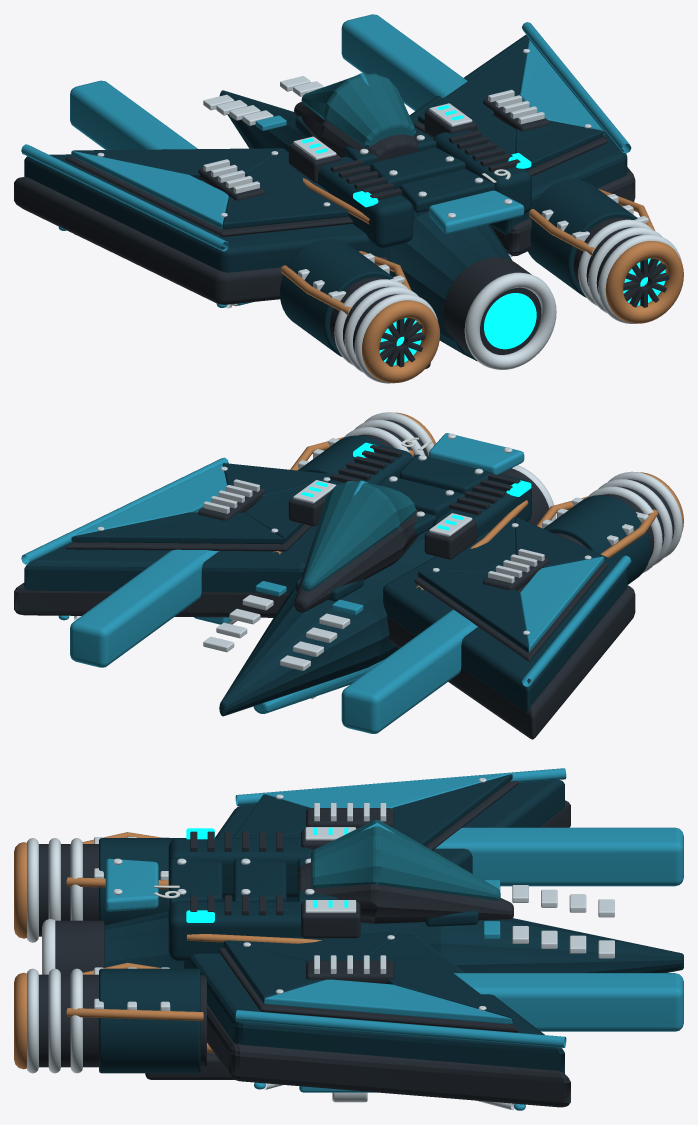
3 renders of one model, top to bottom at view 1: azimuth 30°, elevation 25°; view 2: azimuth 150°, elevation 25°; view 3: azimuth 270°, elevation 25°, orthographic. The views are drawn at different scales.
Parts seen in each view (by area): view 1: SolidHull_19; view 2: SolidHull_19; view 3: SolidHull_19.
Part boxes in pixels (x1,y1,x2,y2): SolidHull_19: (14,14,683,383); SolidHull_19: (14,412,683,739); SolidHull_19: (14,768,683,1110).
Bounding box in the file's own units: 2.99 × 1.15 × 3.03.
